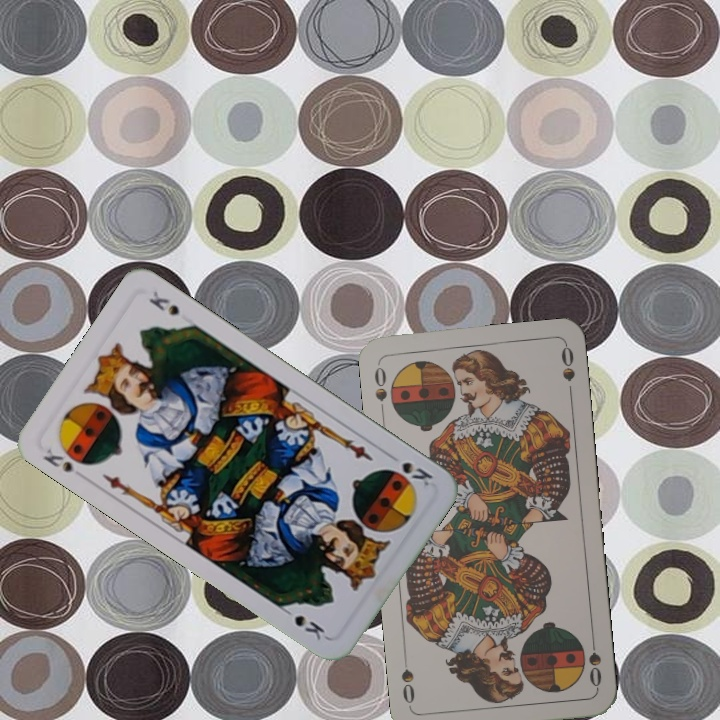SK: (383, 449, 436, 491), (39, 444, 75, 476)
SO: (370, 359, 390, 419), (585, 631, 604, 690)
